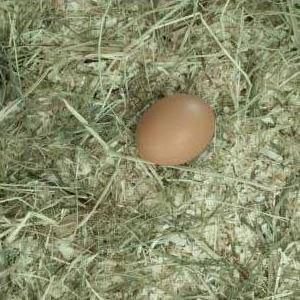egg: (134, 94, 215, 165)
